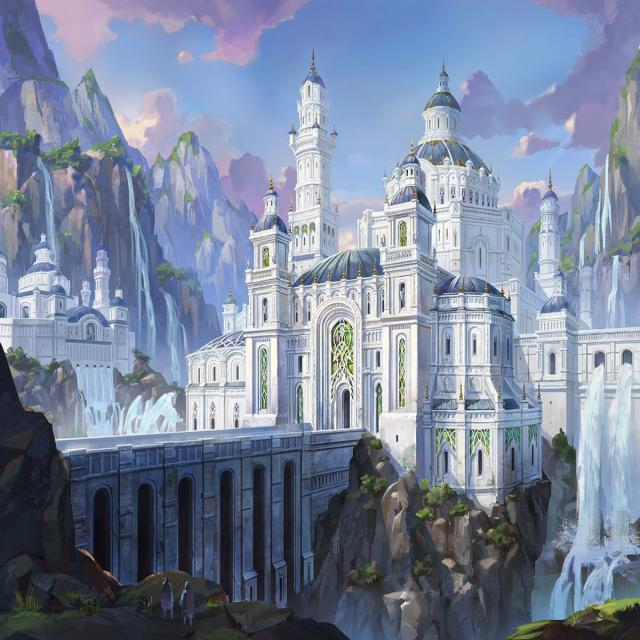castle: (123, 46, 602, 552)
